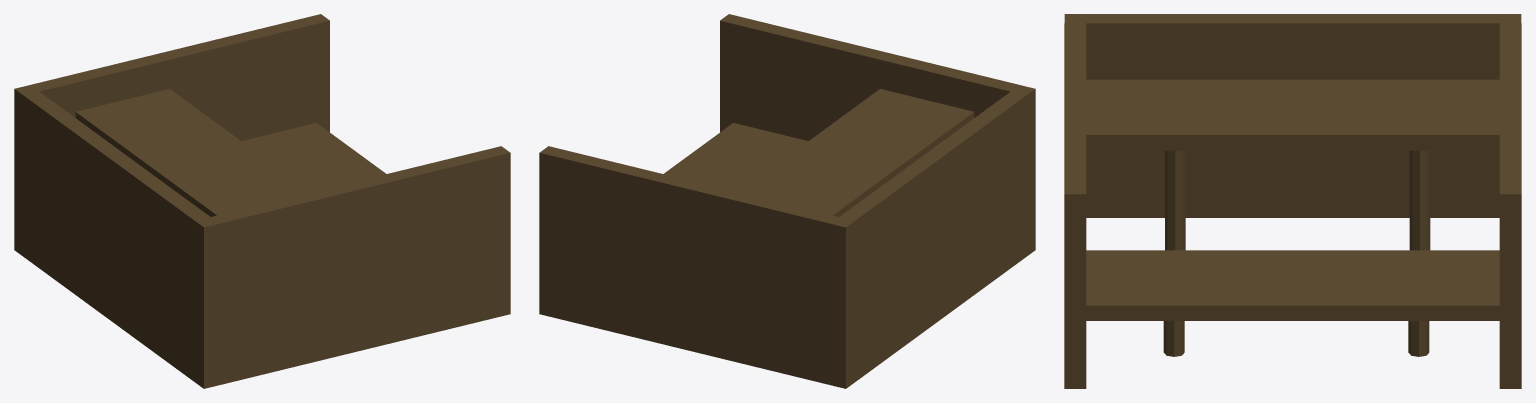
The model's file is Ladder.fbx.
The picture shows the model from 3 angles, left to right: view 1: azimuth 30°, elevation 25°; view 2: azimuth 150°, elevation 25°; view 3: azimuth 270°, elevation 25°; orthographic projection. The views are drawn at different scales.
Parts seen in each view (by area): view 1: Ladder; view 2: Ladder; view 3: Ladder.
Part boxes in pixels (x1=…): Ladder: x1=14, y1=14, x2=510, y2=388; Ladder: x1=539, y1=14, x2=1035, y2=388; Ladder: x1=1064, y1=14, x2=1521, y2=388.
Bounding box in the file's own units: 89.39 × 45 × 95.75.
